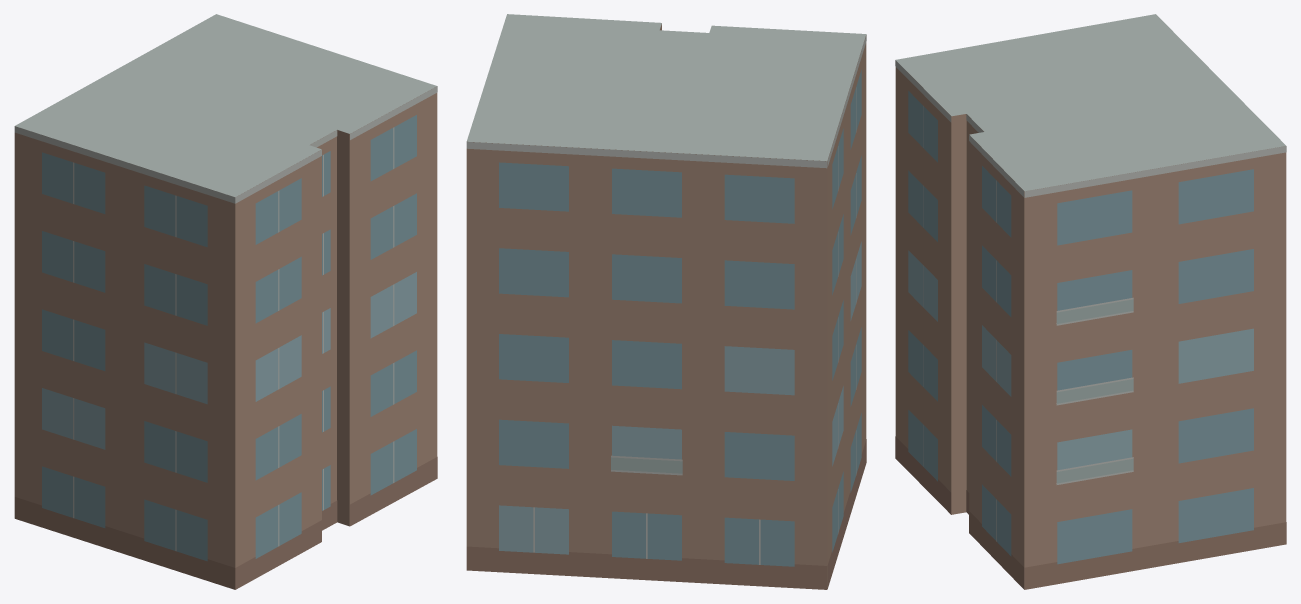
The model's file is survey-upis-32525590.glb.
The picture shows the model from 3 angles, left to right: view 1: azimuth 30°, elevation 25°; view 2: azimuth 150°, elevation 25°; view 3: azimuth 270°, elevation 25°; orthographic projection. The views are drawn at different scales.
Parts seen in each view (by area): view 1: survey-upis-32525590.tmp; view 2: survey-upis-32525590.tmp; view 3: survey-upis-32525590.tmp.
Boxes of the visible parts, x1,y1,x2,y2 form: survey-upis-32525590.tmp: [14, 14, 437, 589]; survey-upis-32525590.tmp: [466, 14, 866, 589]; survey-upis-32525590.tmp: [895, 14, 1286, 589].
Size of the model in its own units: 14.13 by 14.8 by 13.17.
